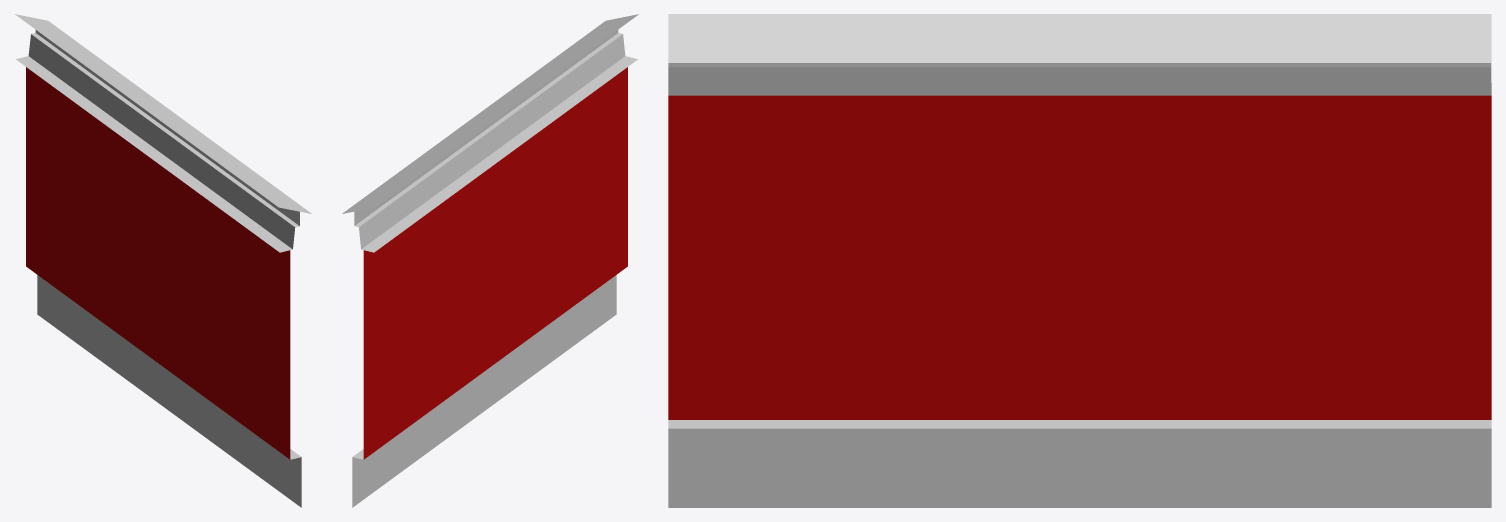
Rendered from wall_side01.fbx.
The picture shows the model from 3 angles, left to right: view 1: azimuth 30°, elevation 25°; view 2: azimuth 150°, elevation 25°; view 3: azimuth 270°, elevation 25°; orthographic projection. The views are drawn at different scales.
Parts seen in each view (by area): view 1: transform19; view 2: transform19; view 3: transform19.
Boxes of the visible parts, x1,y1,x2,y2 form: transform19: (15,14,311,507); transform19: (342,14,638,507); transform19: (668,14,1491,507).
Bounding box in the file's own units: 0.5904 × 5.11 × 8.
